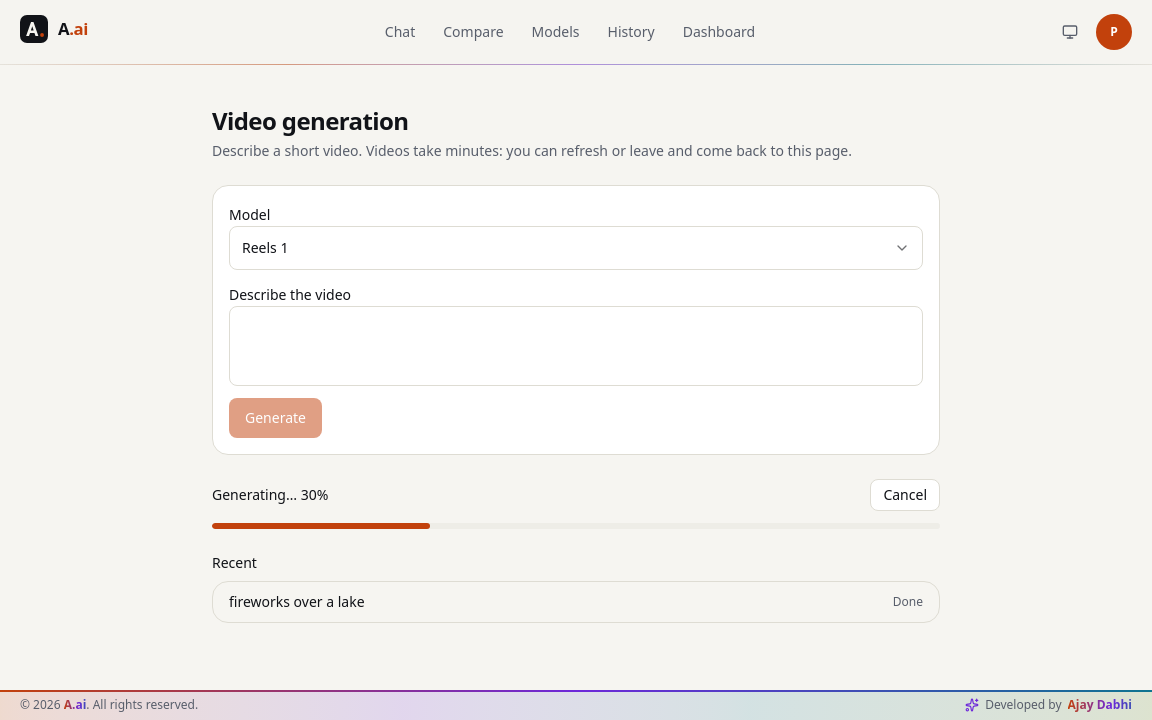
Test: video page › cancels a running job
Click the button "Cancel" at (905, 495), box x1=870 y1=479 x2=940 y2=511
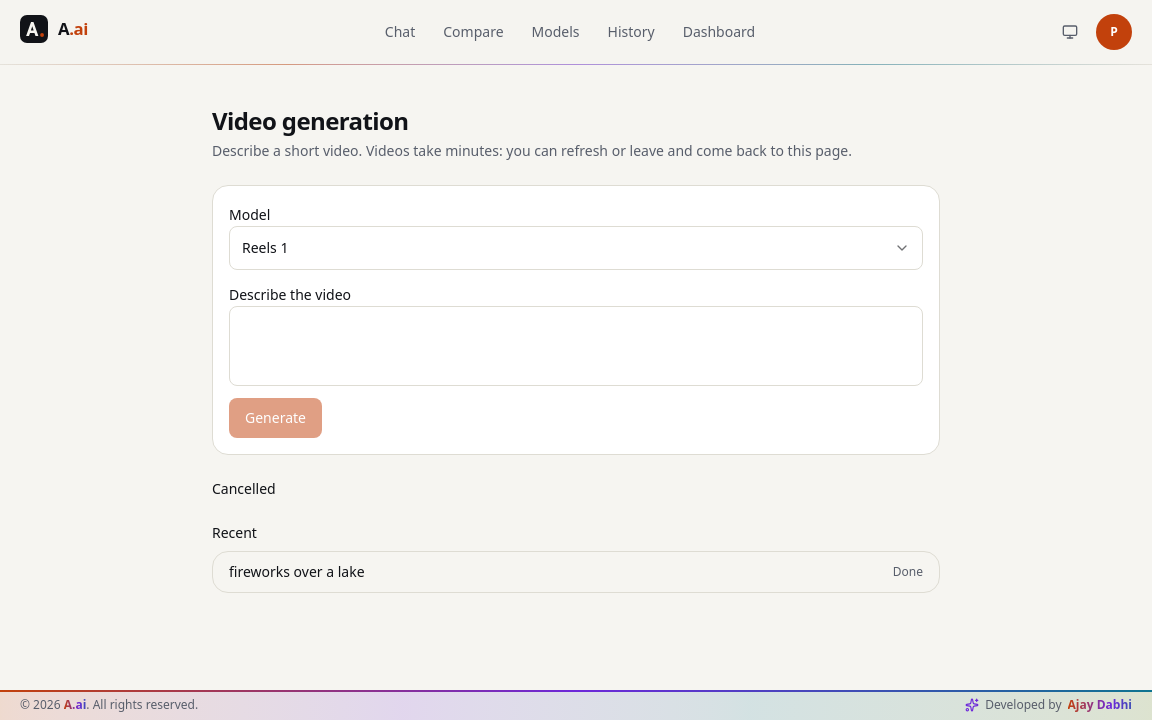
Expected: the message reads "Cancelled", x1=212 y1=479 x2=276 y2=498
